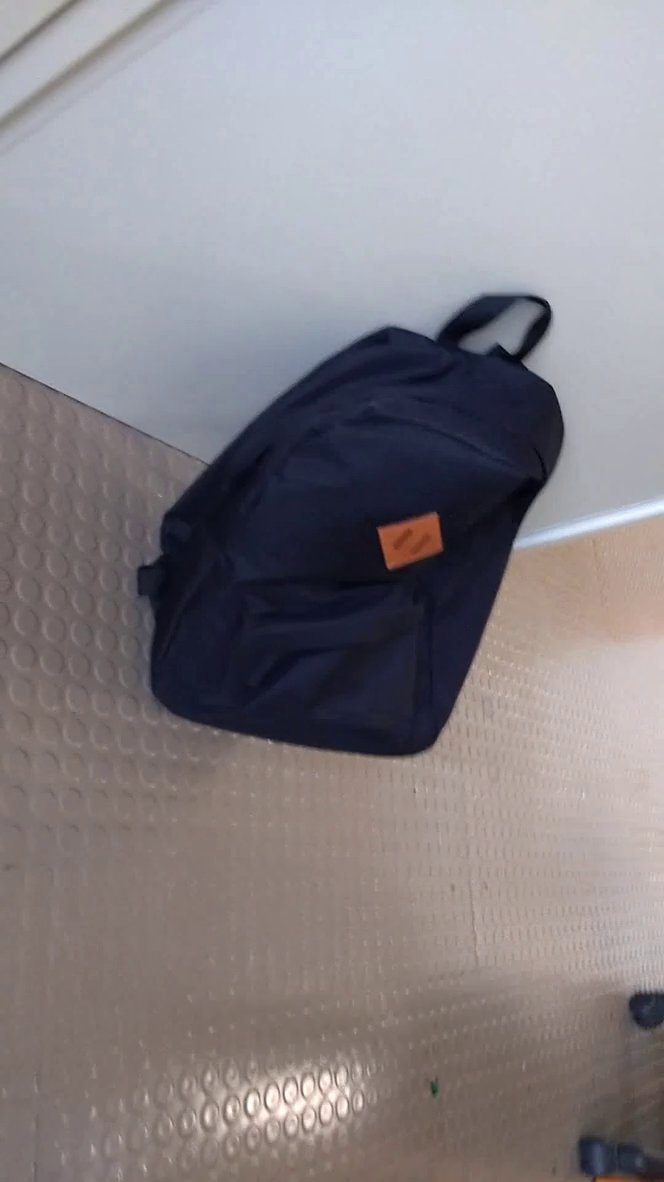bag: (124, 284, 575, 785)
